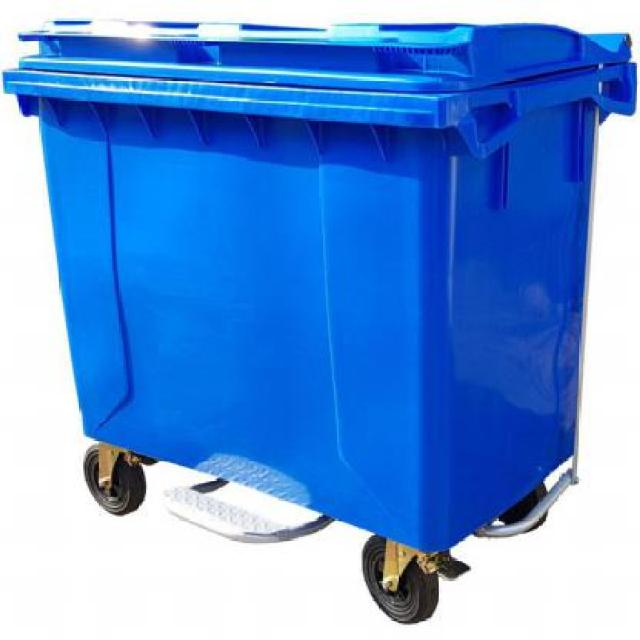garbage container: (1, 13, 637, 639)
